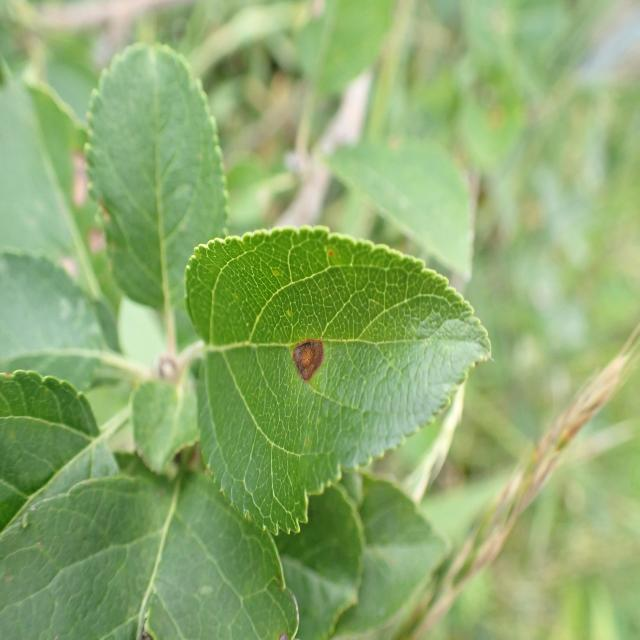Black Rot: (270, 332, 338, 401)
